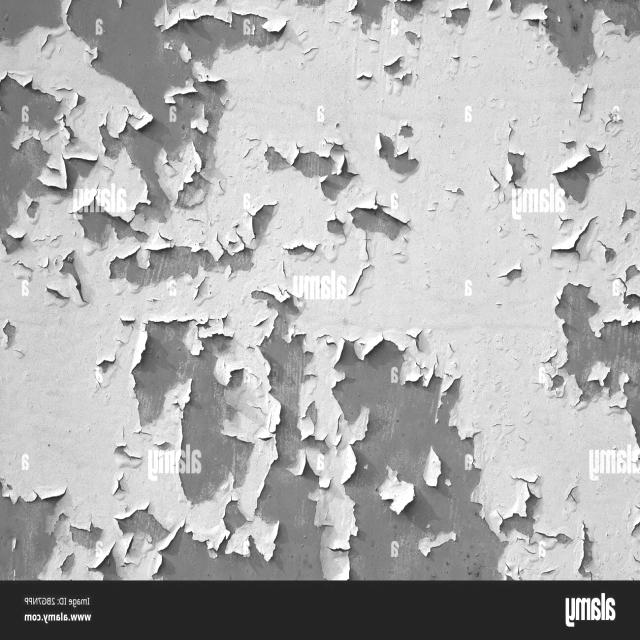peeling paint: (0, 0, 640, 582)
